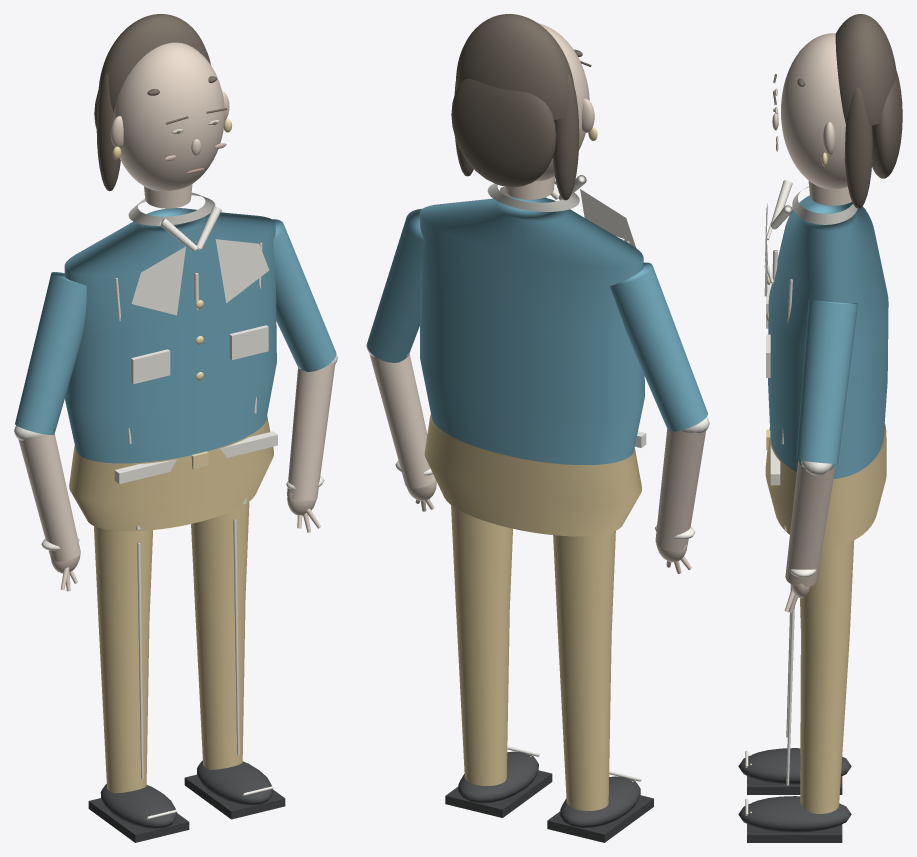
File: female-relaxed.glb
The picture shows the model from 3 angles, left to right: view 1: azimuth 30°, elevation 25°; view 2: azimuth 150°, elevation 25°; view 3: azimuth 270°, elevation 25°; orthographic projection. The views are drawn at different scales.
Parts seen in each view (by area): view 1: StyleFit Parametric Digital Human; view 2: StyleFit Parametric Digital Human; view 3: StyleFit Parametric Digital Human.
Boxes of the visible parts, x1,y1,x2,y2 form: StyleFit Parametric Digital Human: [14, 14, 337, 842]; StyleFit Parametric Digital Human: [366, 14, 709, 842]; StyleFit Parametric Digital Human: [738, 14, 902, 842].
Size of the model in its own units: 0.9376 by 2.14 by 0.4058.
